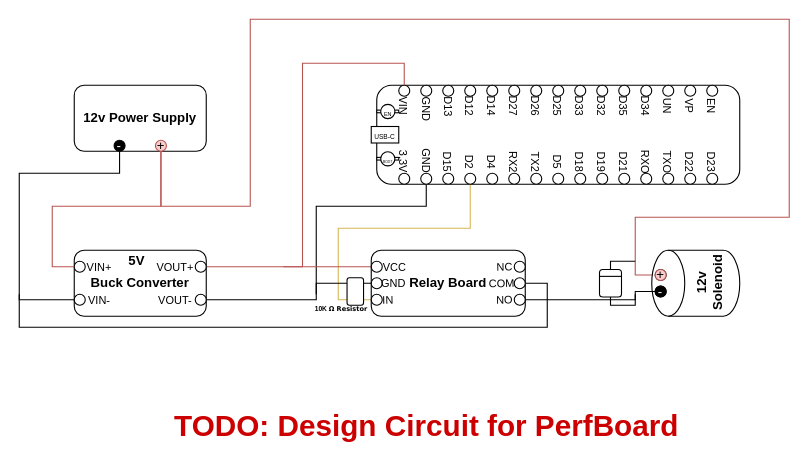
Some shapes in this 810 by 473 pixel diagram are drawn without their labels. The box of each missing label's shape, as (x1, y1, x2, y2) in pixels:
10K Ω: (346, 277, 364, 305)
Diode: (598, 268, 622, 297)
ESP32: (376, 84, 740, 184)
